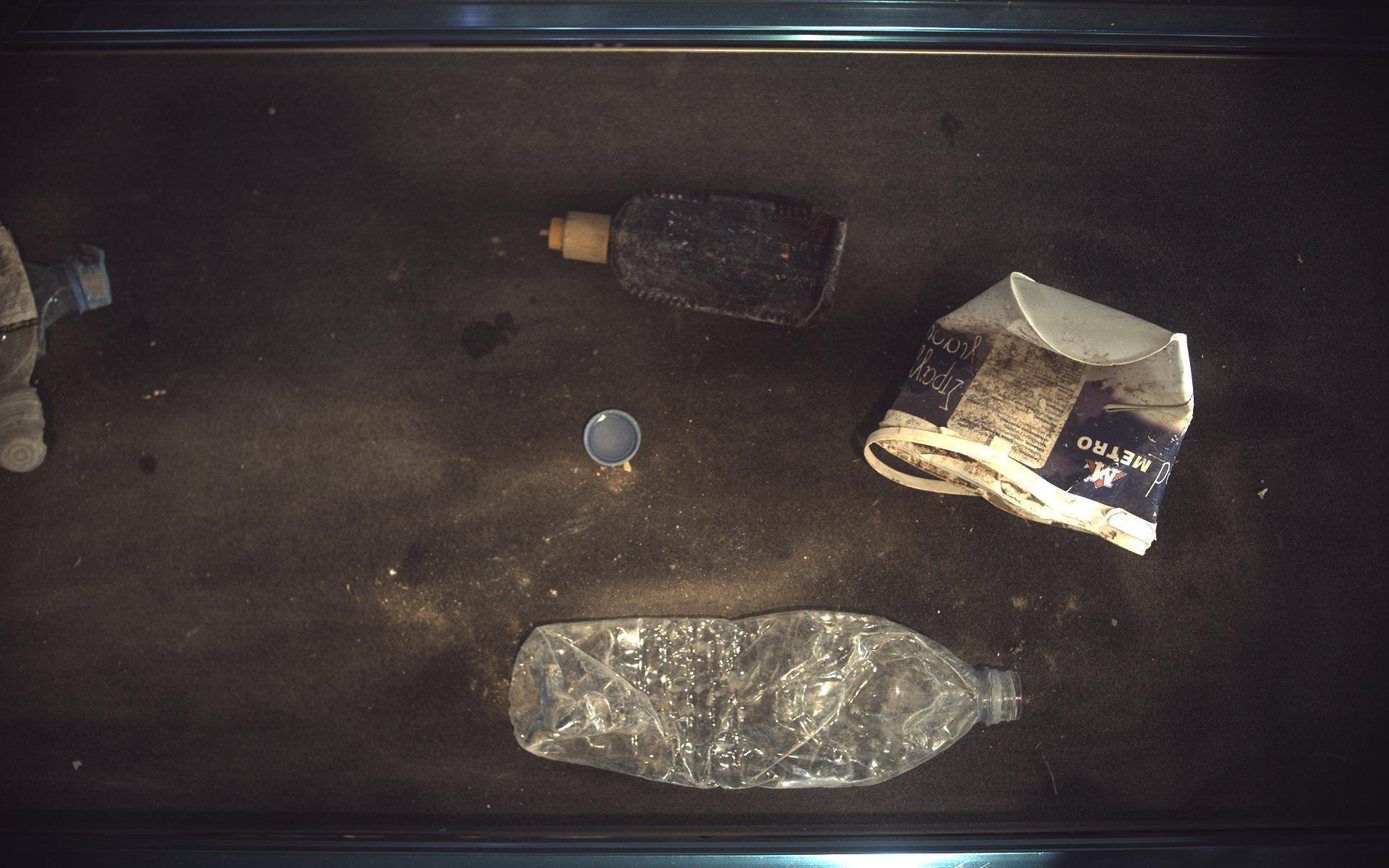general_w: (866, 271, 1197, 555), (509, 611, 1025, 791), (548, 190, 849, 328), (1, 225, 110, 329), (1, 224, 46, 472), (584, 409, 641, 472)
